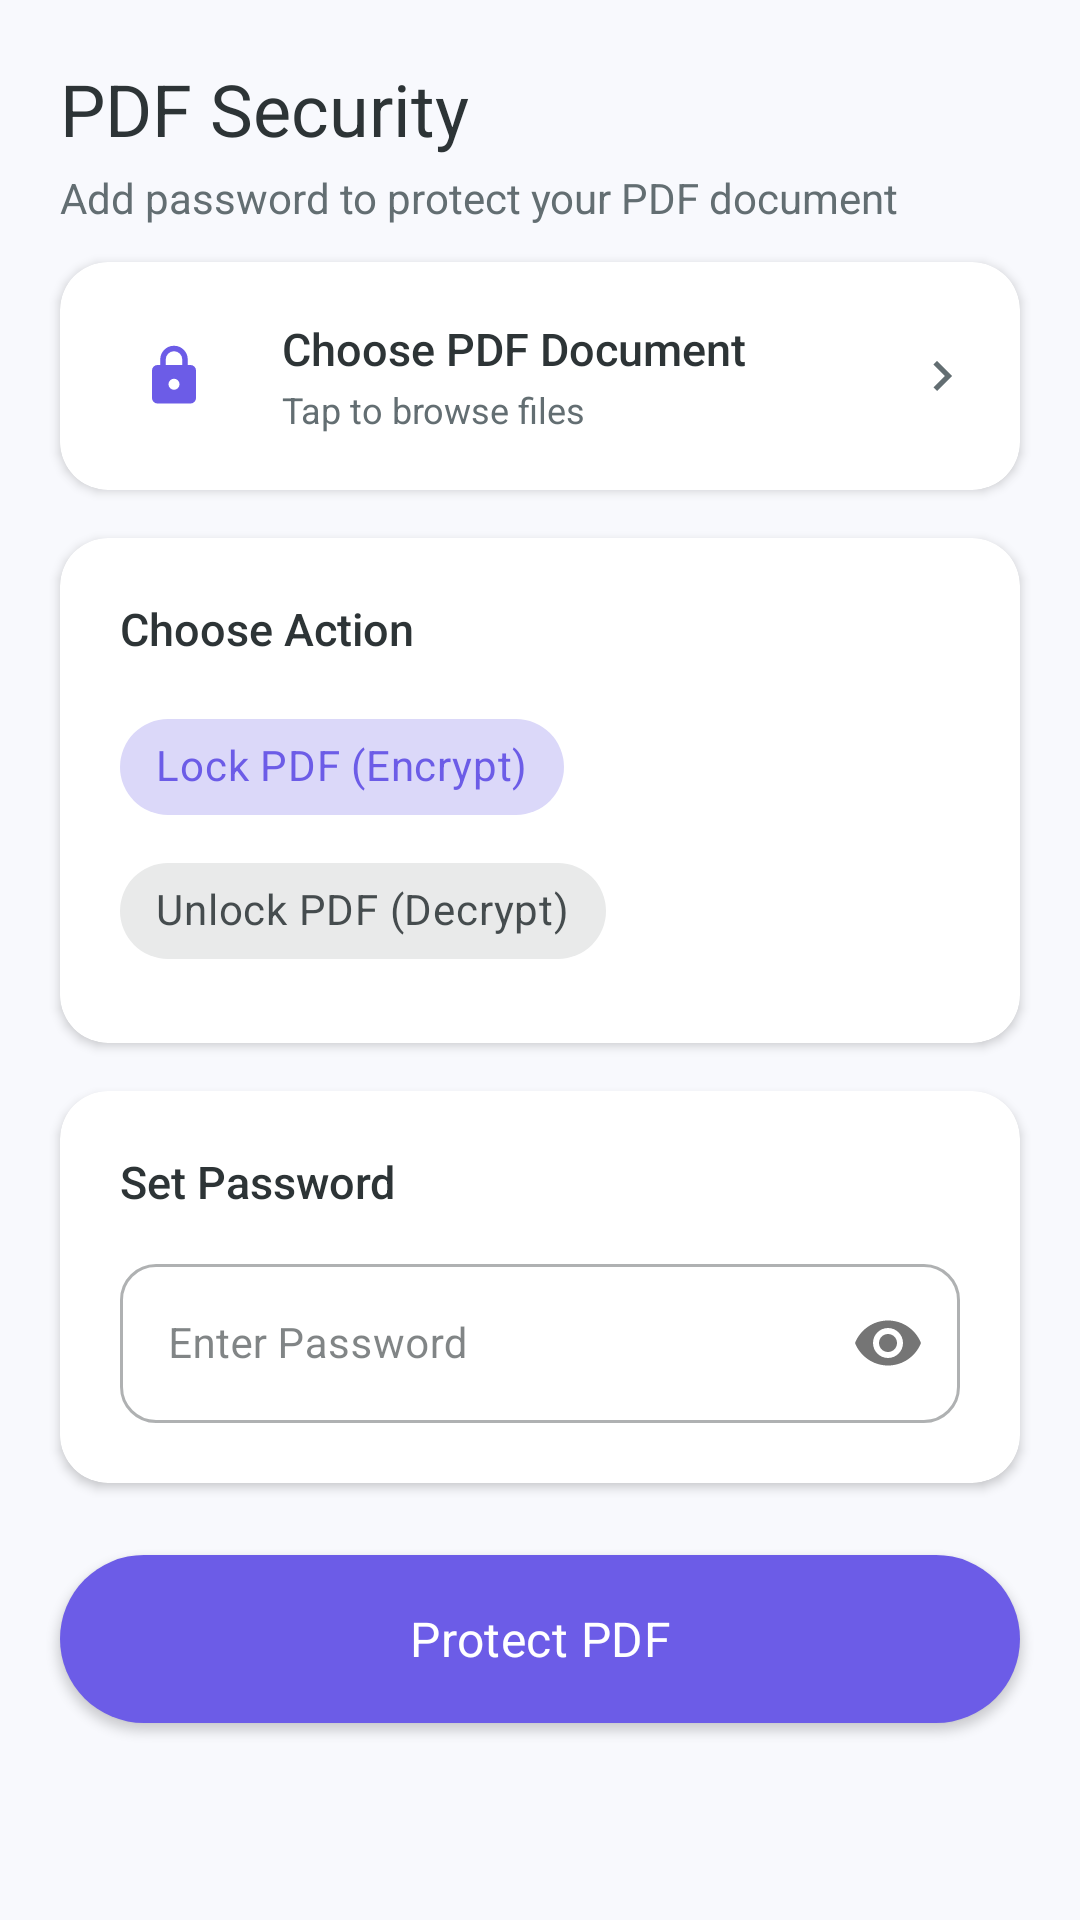

Where to tap for icons on this 1080 × 1920 app screen, as [x,y]:
chevron right: [942,376]
lock: [174,374]
